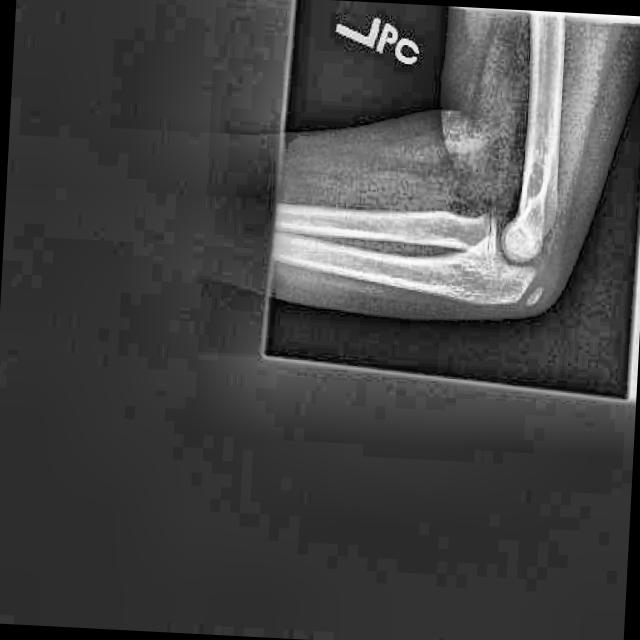elbow positive: (504, 251, 564, 326)
